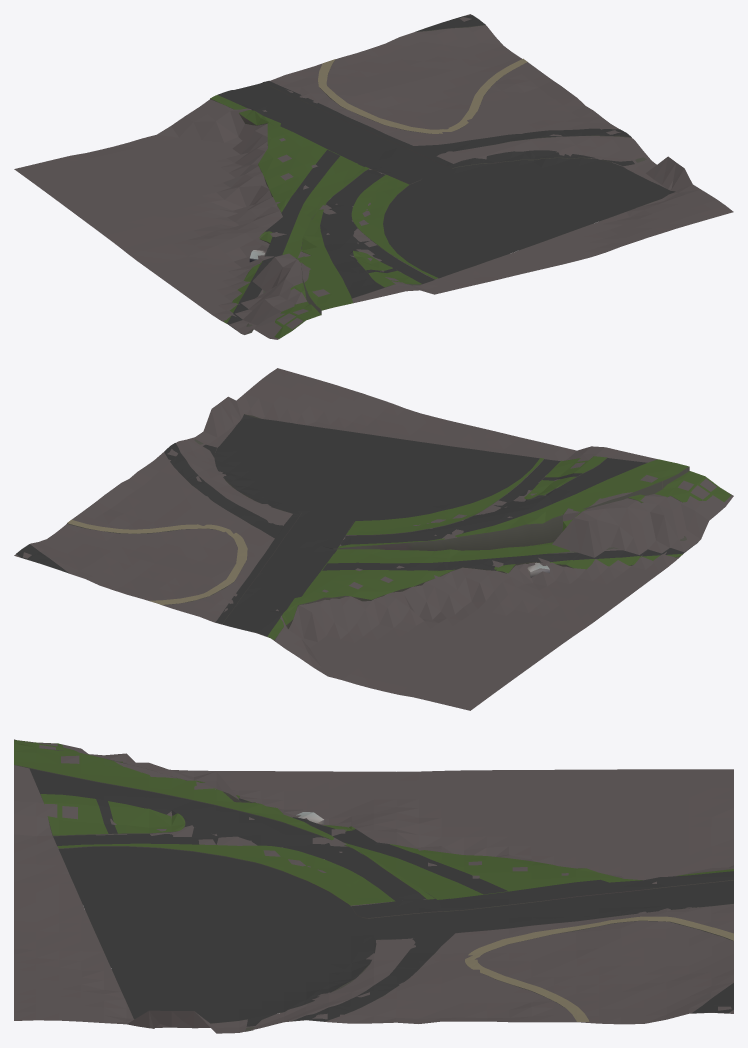
3 views of the same model, one above another, from view 1: azimuth 30°, elevation 25°; view 2: azimuth 150°, elevation 25°; view 3: azimuth 270°, elevation 25° (orthographic). The views are drawn at different scales.
Parts seen in each view (by area): view 1: c_m12_m17; view 2: c_m12_m17; view 3: c_m12_m17.
Part boxes in pixels (x1,y1,x2,y2): c_m12_m17: (14, 14, 733, 339); c_m12_m17: (14, 368, 733, 710); c_m12_m17: (14, 739, 733, 1033).
Size of the model in its own units: 128 by 14.67 by 128.
